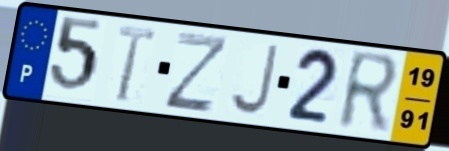2: (283, 43, 345, 132)
5: (47, 15, 106, 100)
J: (227, 42, 282, 117)
R: (335, 48, 403, 137)
T: (114, 22, 159, 104)
Z: (161, 30, 232, 115)
